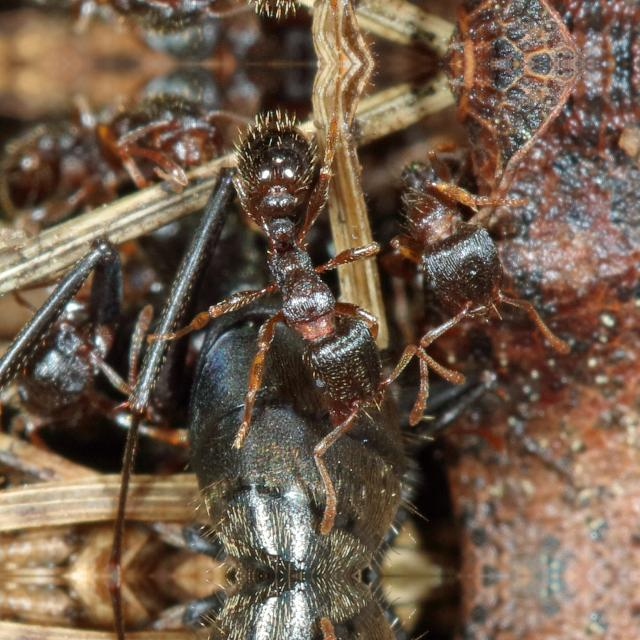Tetramorium: (200, 115, 422, 425), (363, 126, 545, 340), (0, 64, 244, 220), (0, 321, 166, 463), (0, 0, 244, 64)
